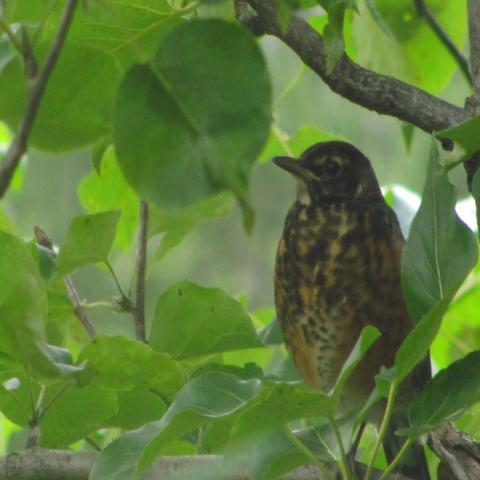bird: (271, 138, 440, 424)
